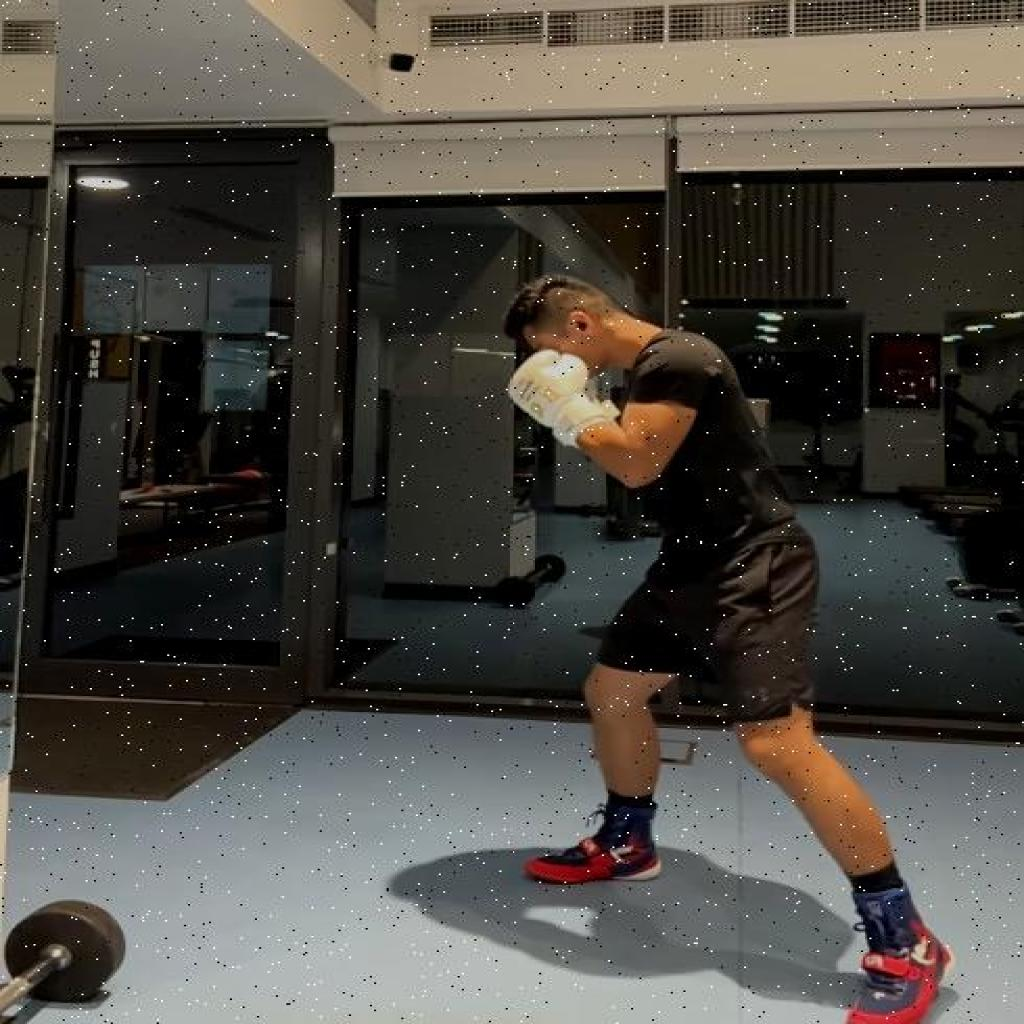no punch: (510, 273, 957, 1024)
